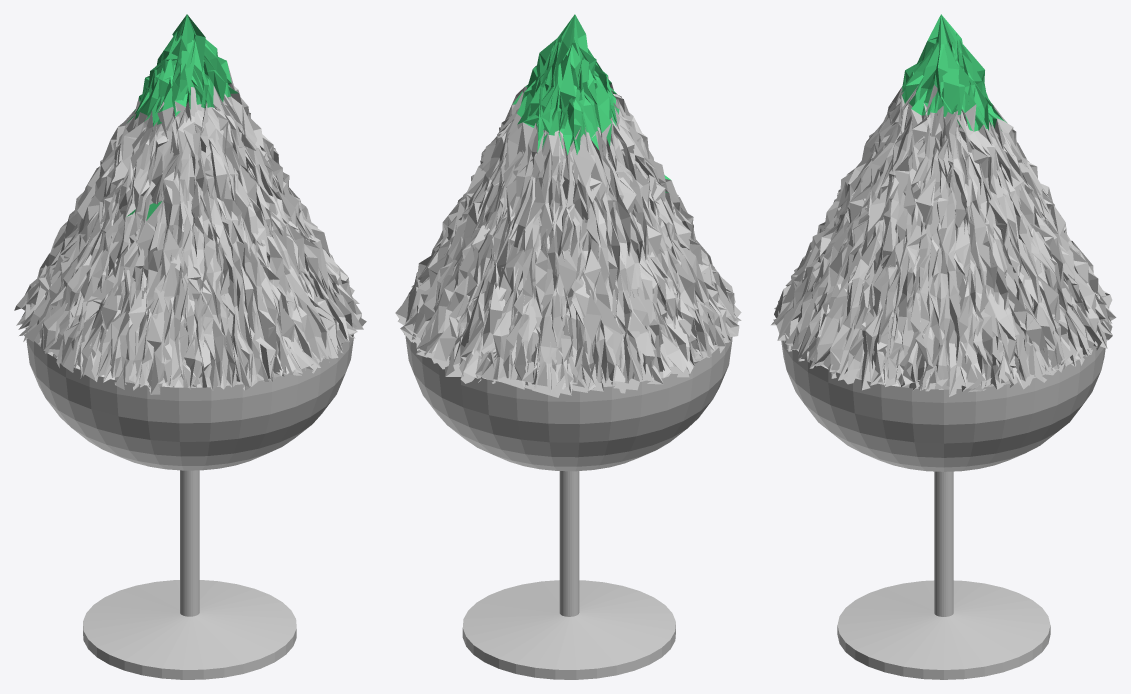
Rendered from Glass.fbx.
The picture shows the model from 3 angles, left to right: view 1: azimuth 30°, elevation 25°; view 2: azimuth 150°, elevation 25°; view 3: azimuth 270°, elevation 25°; orthographic projection.
Parts seen in each view (by area): view 1: Cube; view 2: Cube; view 3: Cube.
Part boxes in pixels (left/top/right/bottom): Cube: left=14, top=14, right=366, bottom=679; Cube: left=395, top=14, right=741, bottom=679; Cube: left=771, top=14, right=1116, bottom=679.
Size of the model in its own units: 256 by 515 by 261.
